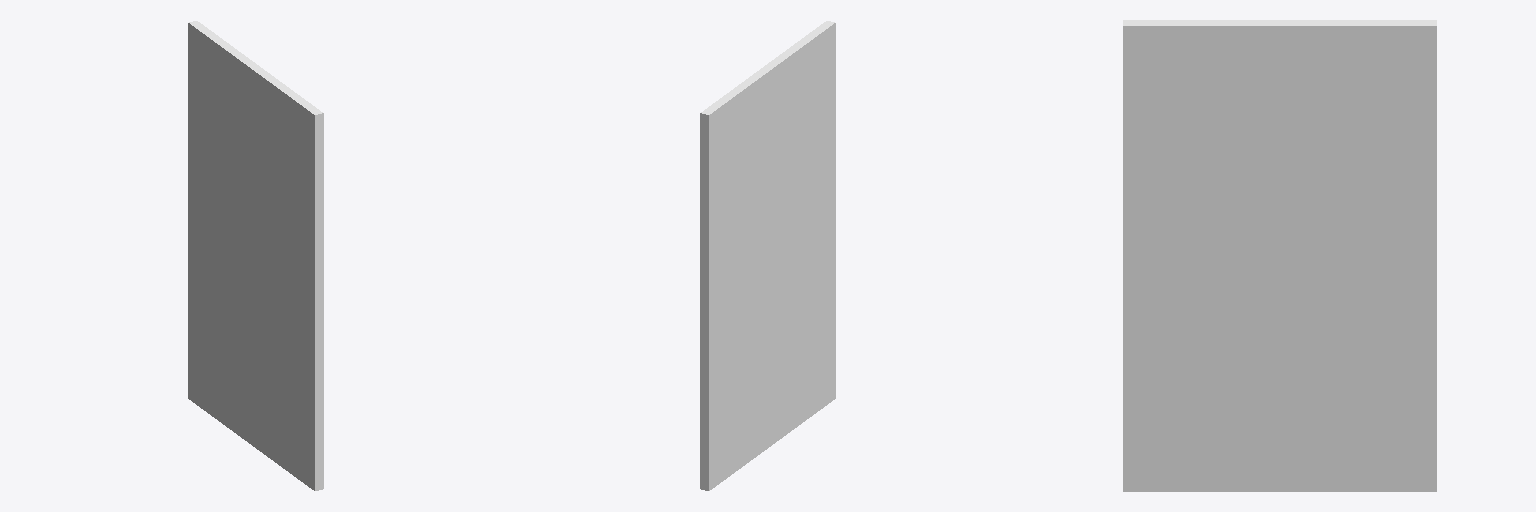
URDF robot description (room610-no-name-11-robot):
<?xml version="1.0"?>
<robot name="room610-no-name-11-robot"
       xmlns:xi="http://www.w3.org/2001/XInclude"
       >
  <gazebo>
    <static>false</static>
  </gazebo>
  <link name="nil_link">
    <visual>
      <origin xyz="0 0 0" rpy="0 -0 0"/>
      <geometry>
        <mesh filename="model://room610-no-name-11/meshes/nil_link_mesh.dae" scale="1 1 1" />
      </geometry>
    </visual>
    <collision>
      <origin xyz="0 0 0" rpy="0 -0 0"/>
      <geometry>
        <mesh filename="model://room610-no-name-11/meshes/nil_link_mesh.dae" scale="1 1 1" />
      </geometry>
    </collision>
    <inertial>
      <mass value="0.001" />
      <origin xyz="0 0 0" rpy="0 -0 0"/>
      <inertia ixx="1e-03" ixy="0" ixz="0" iyy="1e-03" iyz="0" izz="1e-03"/>
    </inertial>
  </link>
  <gazebo reference="nil_link">
    <mu1>0.9</mu1>
    <mu2>0.9</mu2>
  </gazebo>
</robot>

--- What the picture shows (computed from the rendered views, not written in the file) ---
Views: 3 orthographic renders of the robot side by side, from view 1: azimuth 30°, elevation 25°; view 2: azimuth 150°, elevation 25°; view 3: azimuth 270°, elevation 25°.
Robot: room610-no-name-11-robot — 1 links, 0 joints (none); root link nil_link; default pose: every joint at zero.
Visible links, largest first — view 1: nil_link; view 2: nil_link; view 3: nil_link.
Link boxes in pixels (x1,y1,x2,y2): nil_link: (188, 21, 323, 490); nil_link: (700, 21, 835, 490); nil_link: (1123, 20, 1436, 491).
Bounding box of the posed robot: 0.05 × 1.25 × 2.05 m (x, y, z).
Meshes: 1 distinct files referenced, 1 mesh visuals loaded (1 Collada DAE).